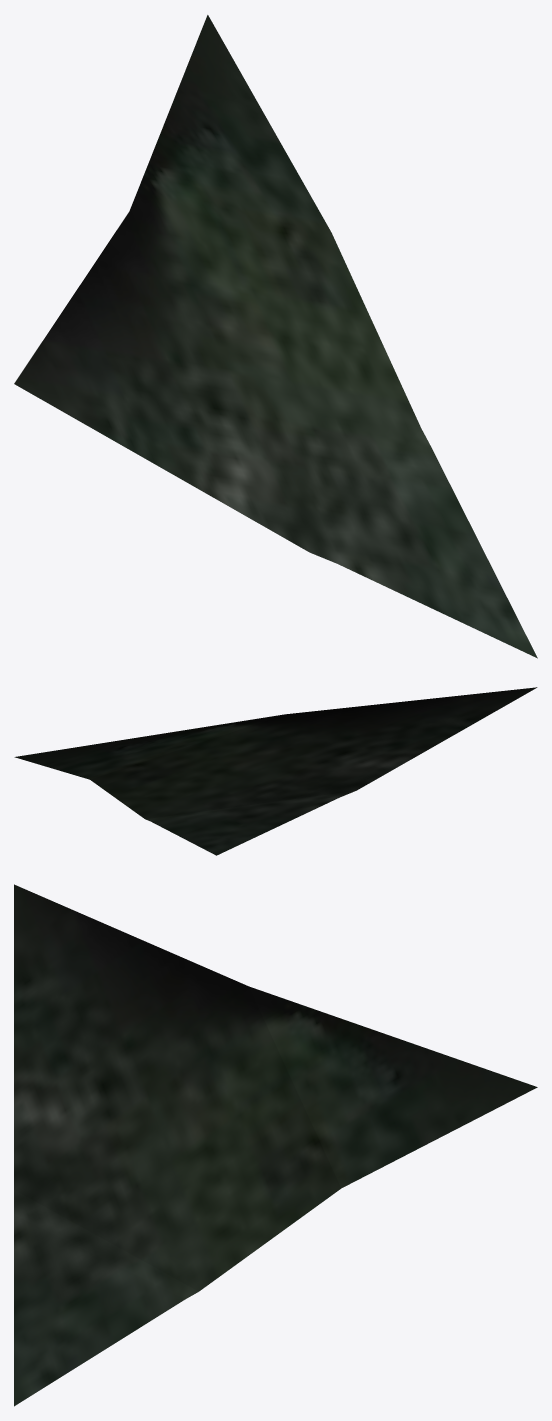
The picture shows the model from 3 angles, top to bottom: view 1: azimuth 30°, elevation 25°; view 2: azimuth 150°, elevation 25°; view 3: azimuth 270°, elevation 25°; orthographic projection. The views are drawn at different scales.
Size of the model in its own units: 2.07 by 1.52 by 2.26.
1 material, 1 textured.
